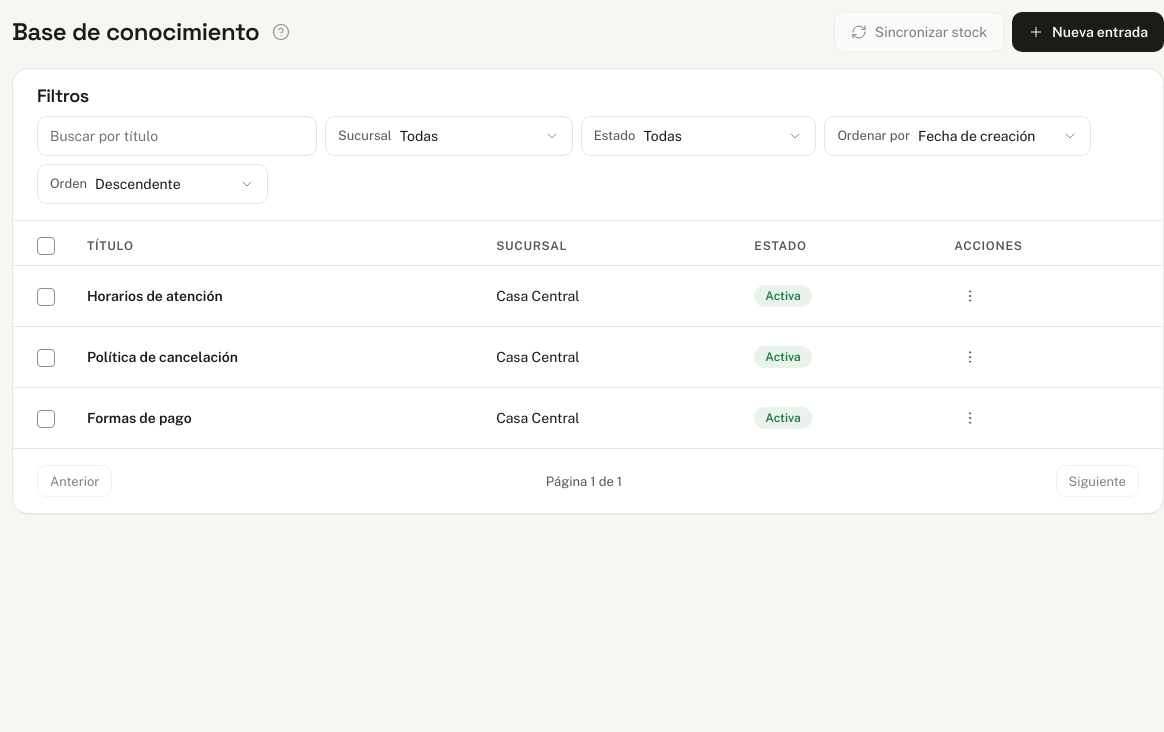
it: KnowledgeBaseListPage — selección múltiple › con algunas tildadas, la casilla del encabezado queda indeterminada
The image size is (1164, 732).
Expected: the text "Horarios de atención" is shown, 71,266 -> 480,327
Click the checkbox named "Seleccionar la entrada \"Horarios de atención\"".
click(46, 297)  # box 37,288 -> 55,306
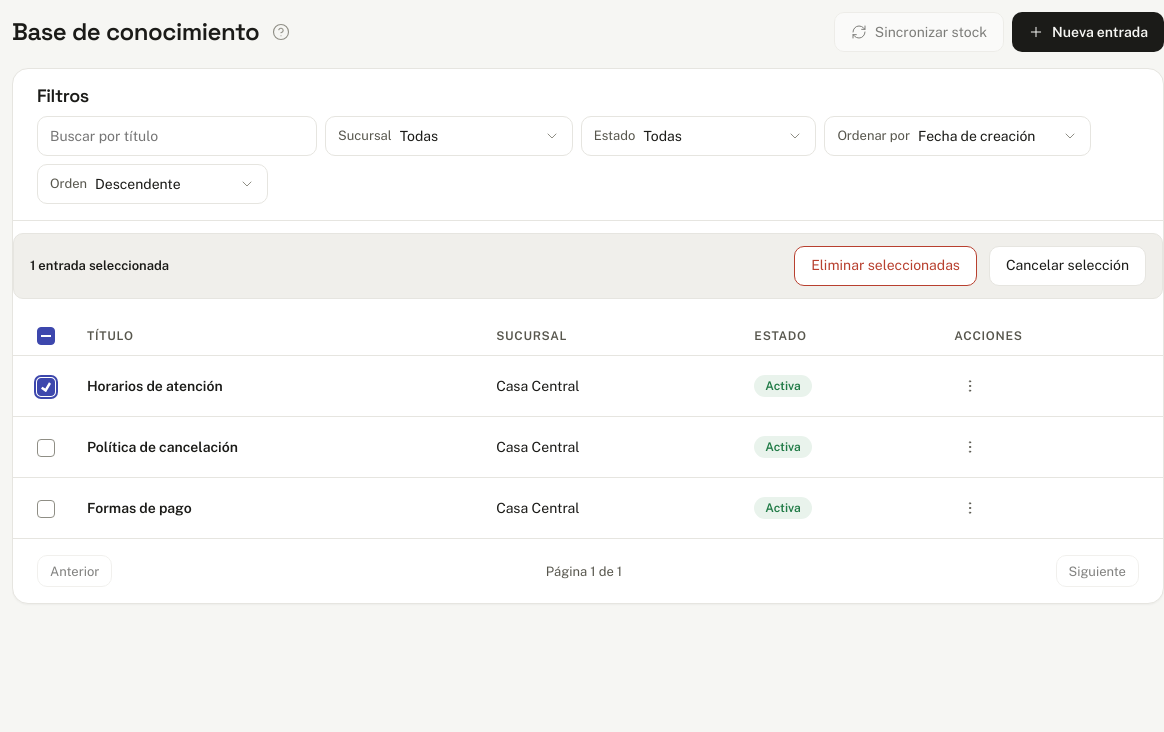
Expected: the checkbox named "Seleccionar todas las de esta página" is not checked, 37,327 -> 55,345
Click the checkbox named "Seleccionar la entrada \"Política de cancelación\"".
click(46, 448)  # box 37,439 -> 55,457
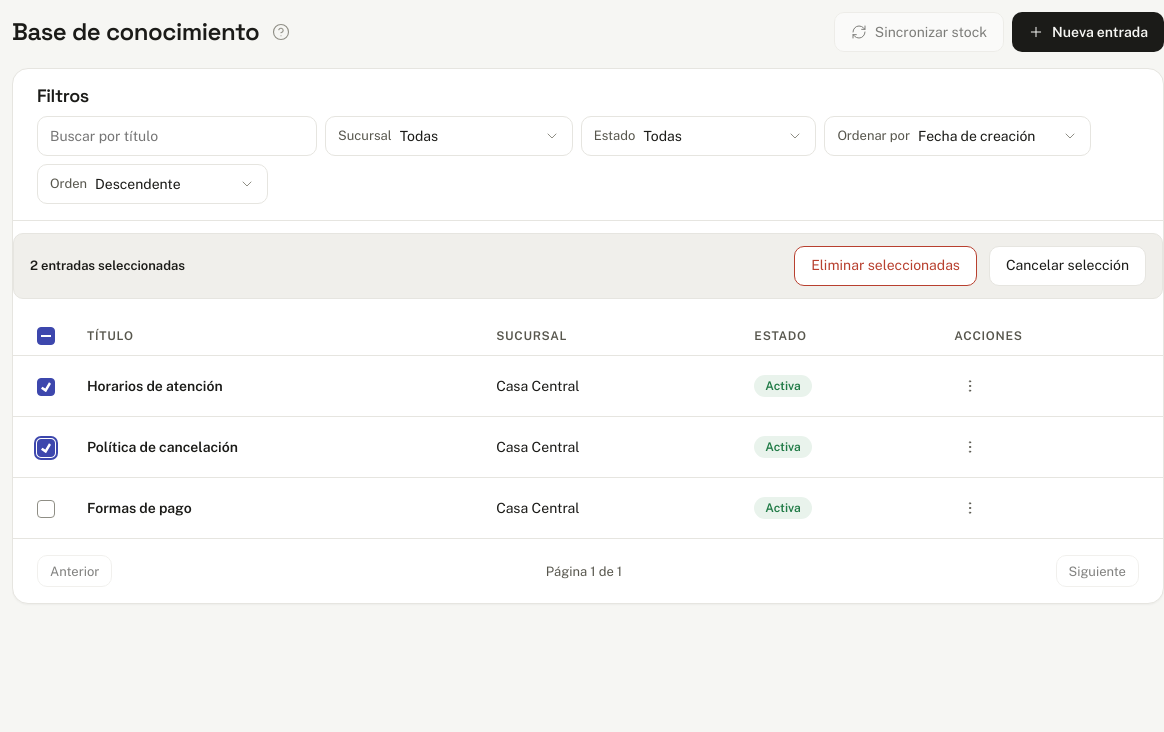
Click the checkbox named "Seleccionar la entrada \"Formas de pago\"".
click(46, 509)  # box 37,500 -> 55,518
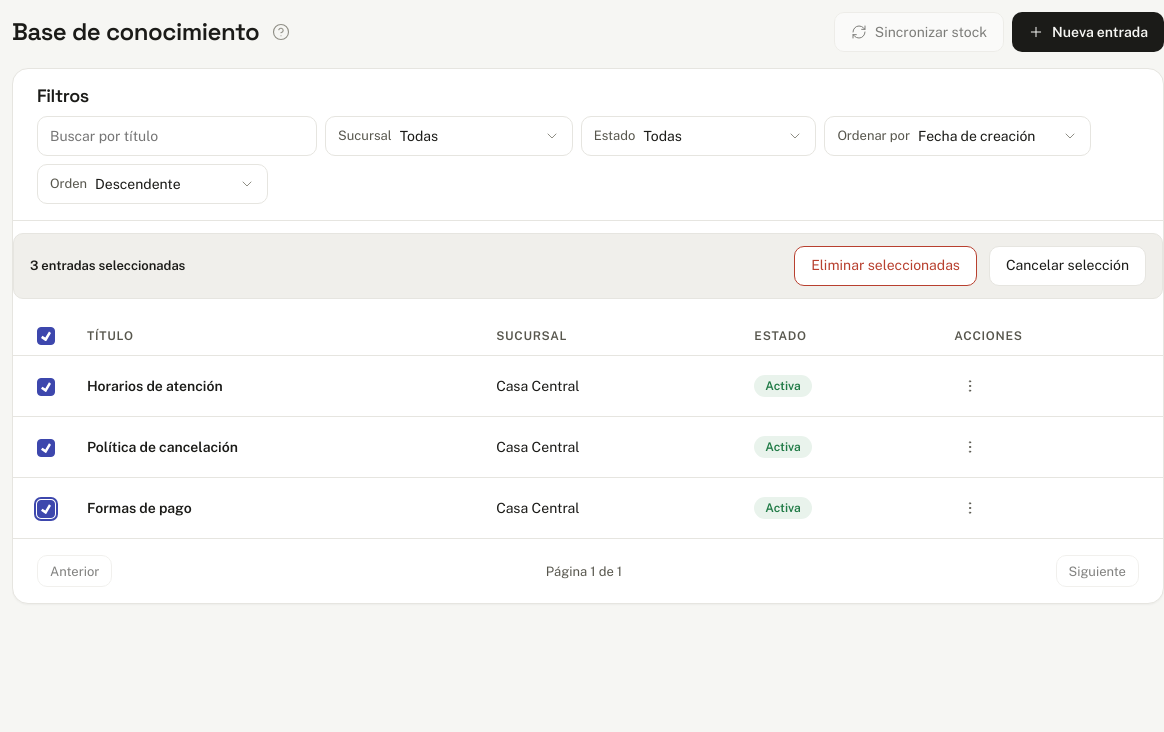
Now the checkbox named "Seleccionar todas las de esta página" is checked, box 37,327 -> 55,345
